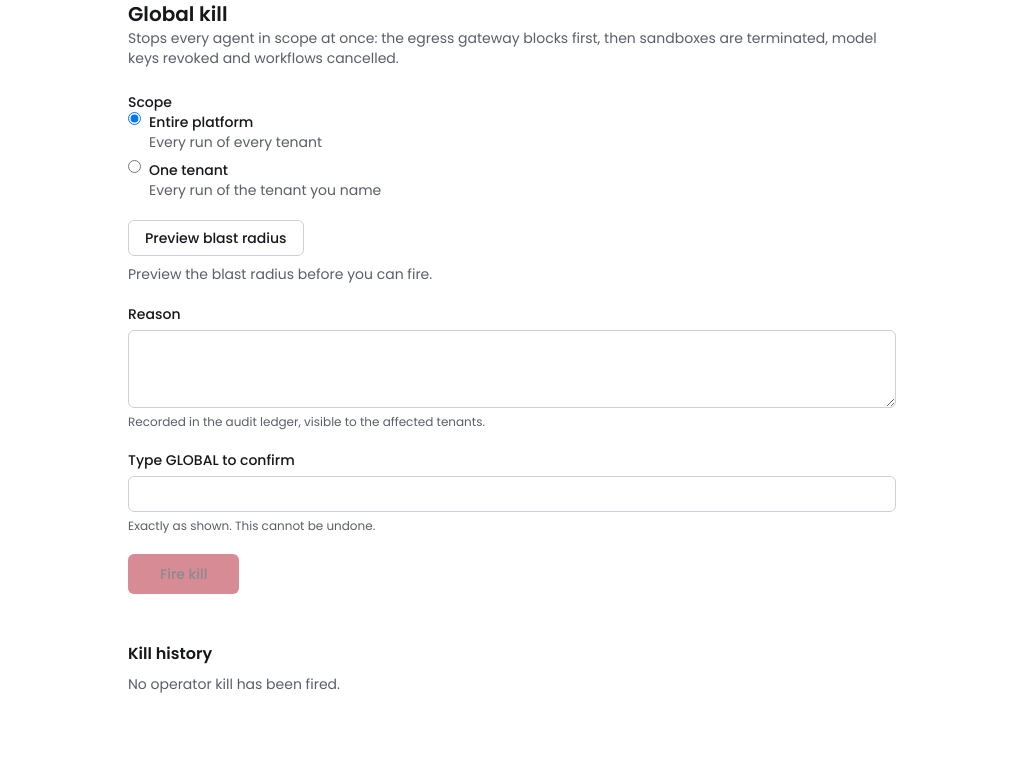
Test: GlobalKillPanel: halt progress (simulated kill) › shows a partial kill as partial, naming the component that did not stop, never "all stopped"
Click the button "Preview blast radius".
click(216, 238)  # box [128,220,304,256]
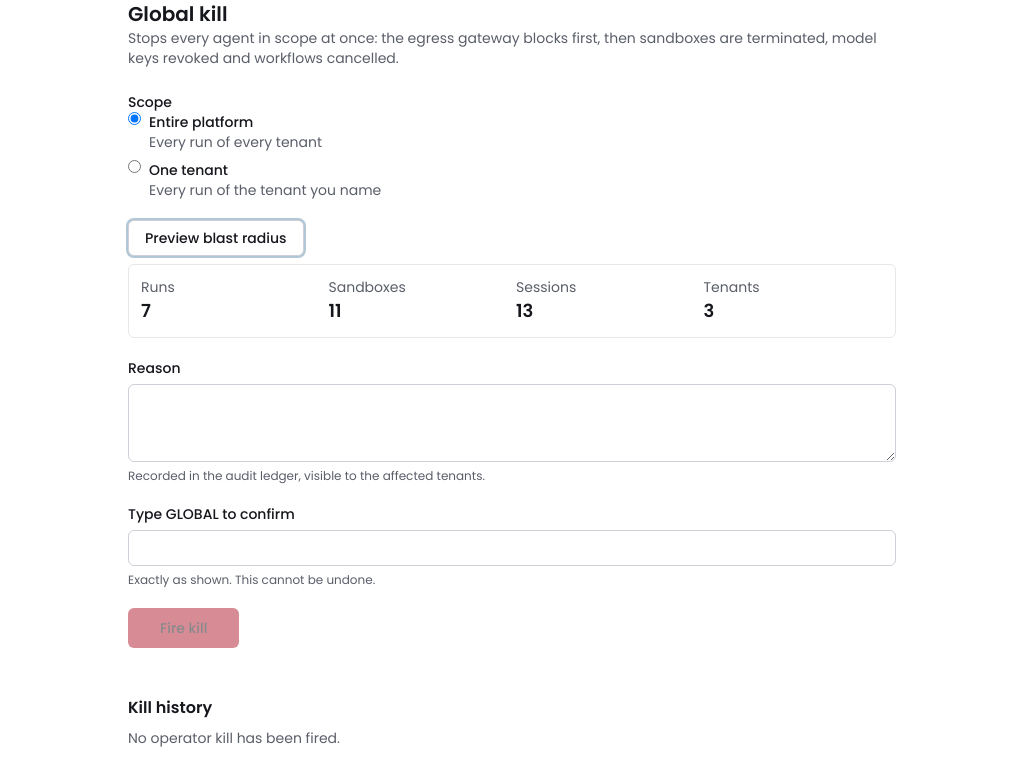
Expected: the text "Preview the blast radius before" is gone
Type "platform incident" into the text box labelled "Reason".
click(512, 423); type("platform incident")  # box [128,384,896,462]
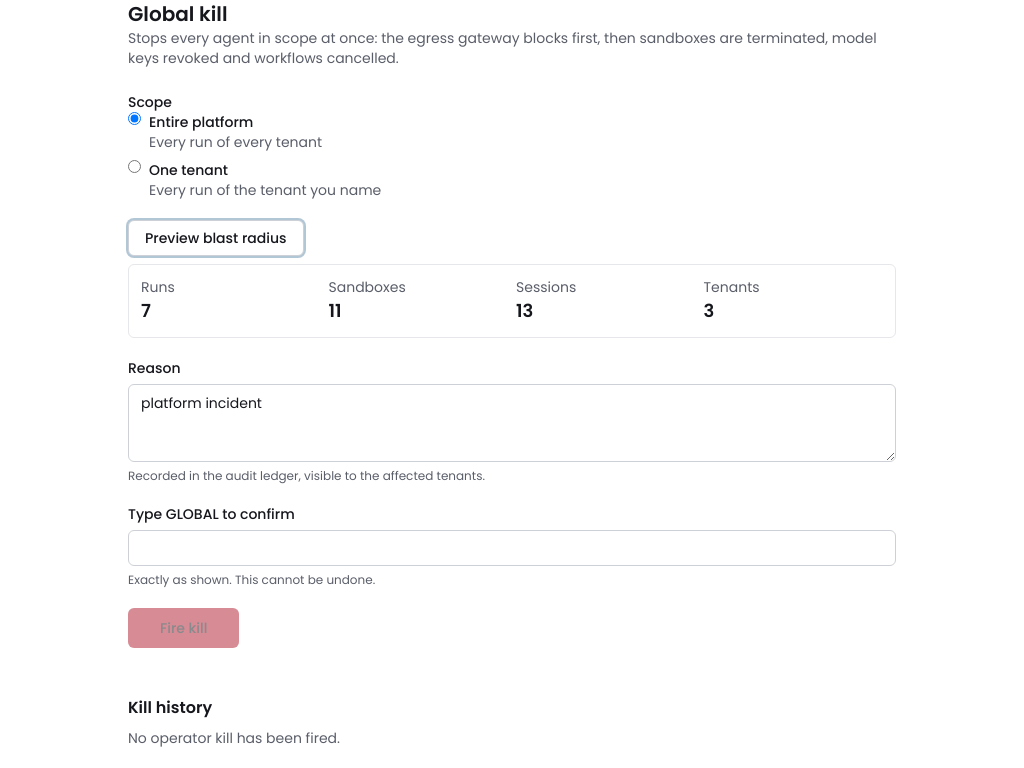
Type "GLOBAL" into the field labelled "Type GLOBAL to confirm".
click(512, 548); type("GLOBAL")  # box [128,530,896,566]
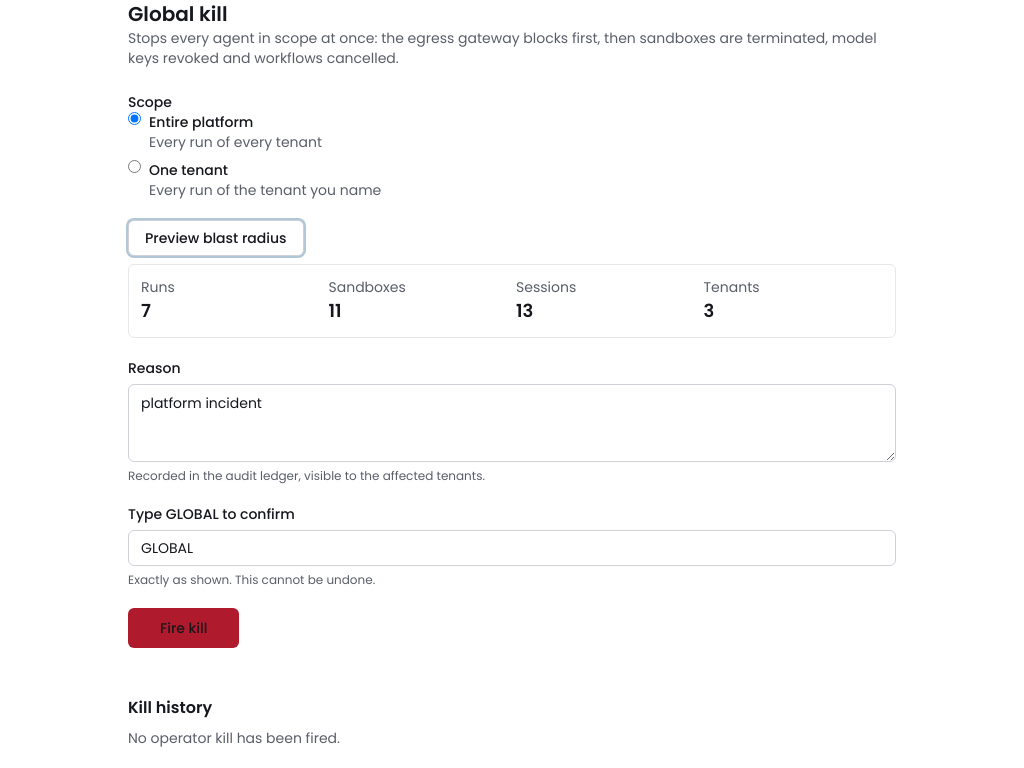
Click the button "Fire kill".
click(184, 628)  # box [128,608,239,648]
(page scrolled)
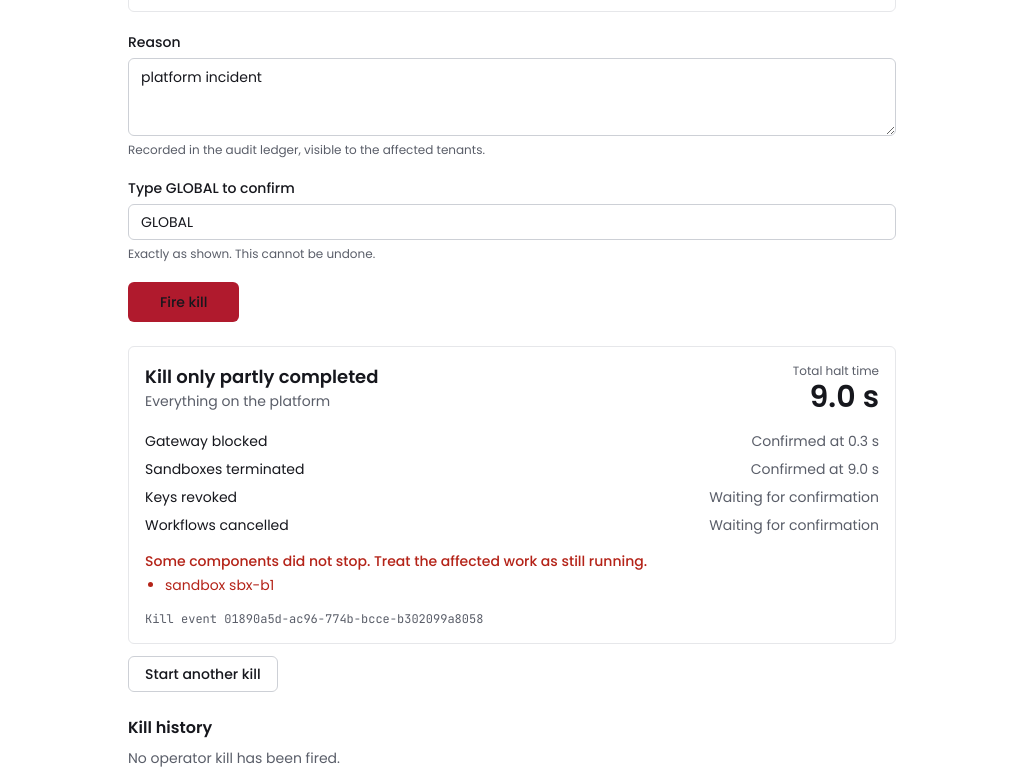
Expected: the heading "Kill only partly completed" is shown, [145,363,378,391]
Expected: the list item "sandbox sbx-b1" is shown, [165,575,274,595]
